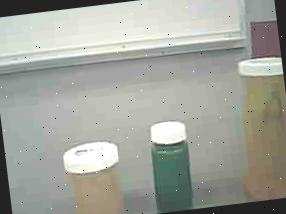Bottle A: (230, 50, 286, 202)
Bottle B: (52, 133, 135, 214)
Bottle C: (140, 115, 202, 214)
